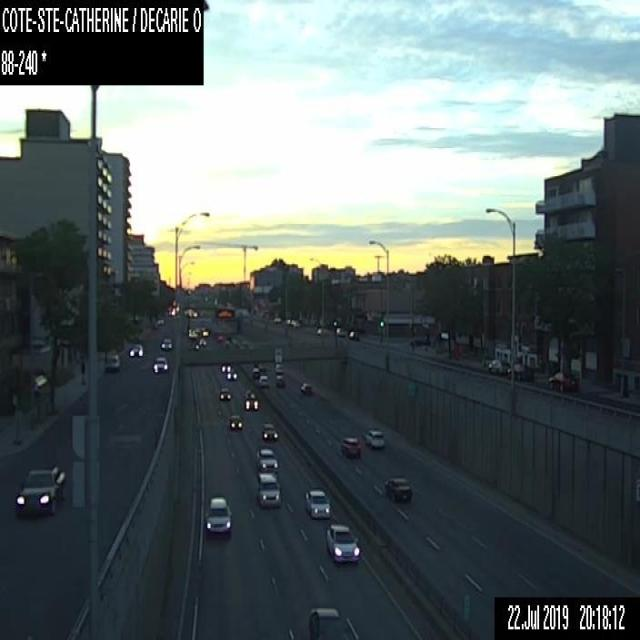vehicle: (15, 466, 65, 514), (308, 606, 354, 638), (326, 524, 360, 560), (205, 496, 231, 532), (258, 473, 280, 504), (305, 489, 329, 517), (546, 371, 577, 392), (384, 476, 411, 499), (255, 448, 278, 471), (487, 357, 510, 374), (507, 362, 531, 378), (364, 429, 384, 447), (340, 436, 360, 454), (261, 422, 277, 438), (152, 356, 167, 373), (228, 413, 243, 429), (244, 393, 258, 410), (105, 352, 119, 368), (128, 343, 144, 356), (219, 386, 231, 400), (160, 336, 172, 349), (275, 370, 285, 384), (299, 382, 312, 392), (258, 375, 269, 386), (226, 370, 237, 380), (198, 337, 206, 345), (220, 364, 230, 370)
